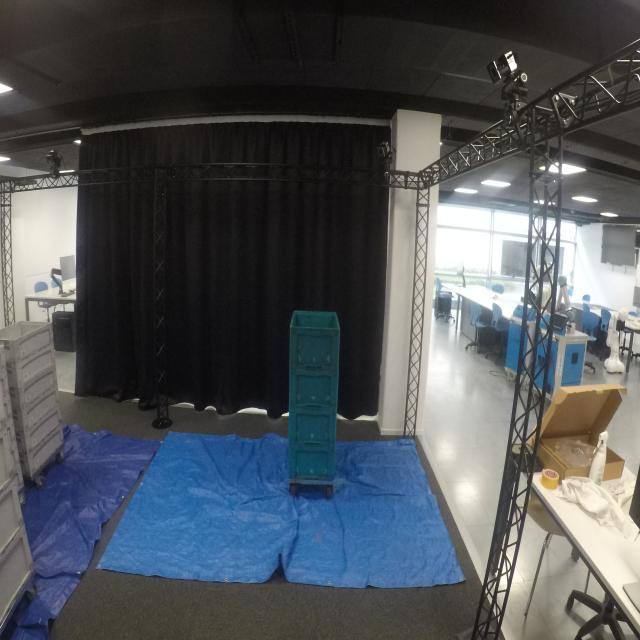BoxB4: (284, 304, 344, 372), (287, 364, 344, 407), (286, 445, 338, 486), (290, 408, 338, 449)
